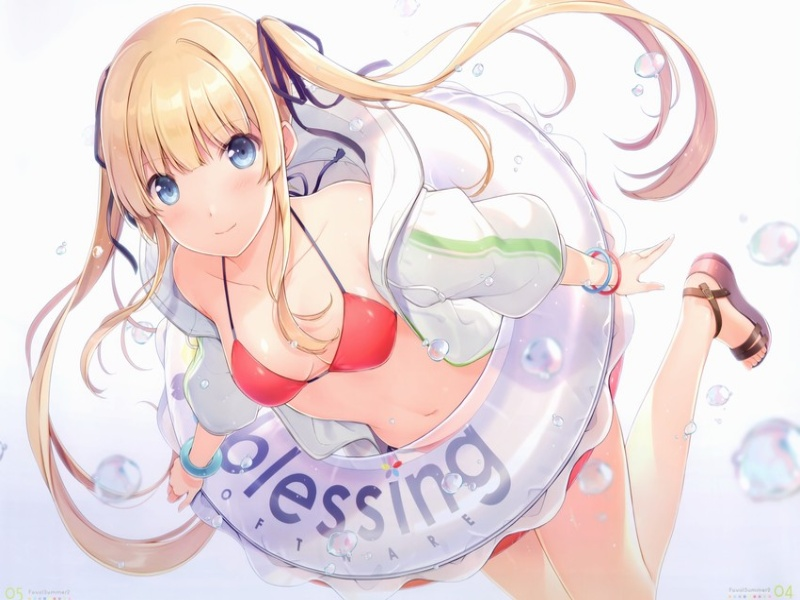person: (80, 22, 309, 261)
swimsuit: (217, 285, 398, 422)
